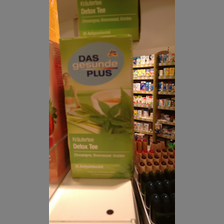tea: (59, 33, 134, 180)
